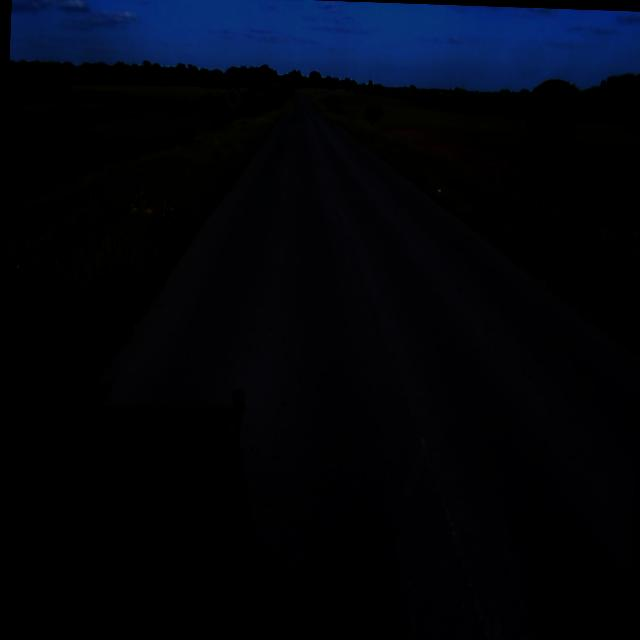road: (0, 95, 638, 640)
